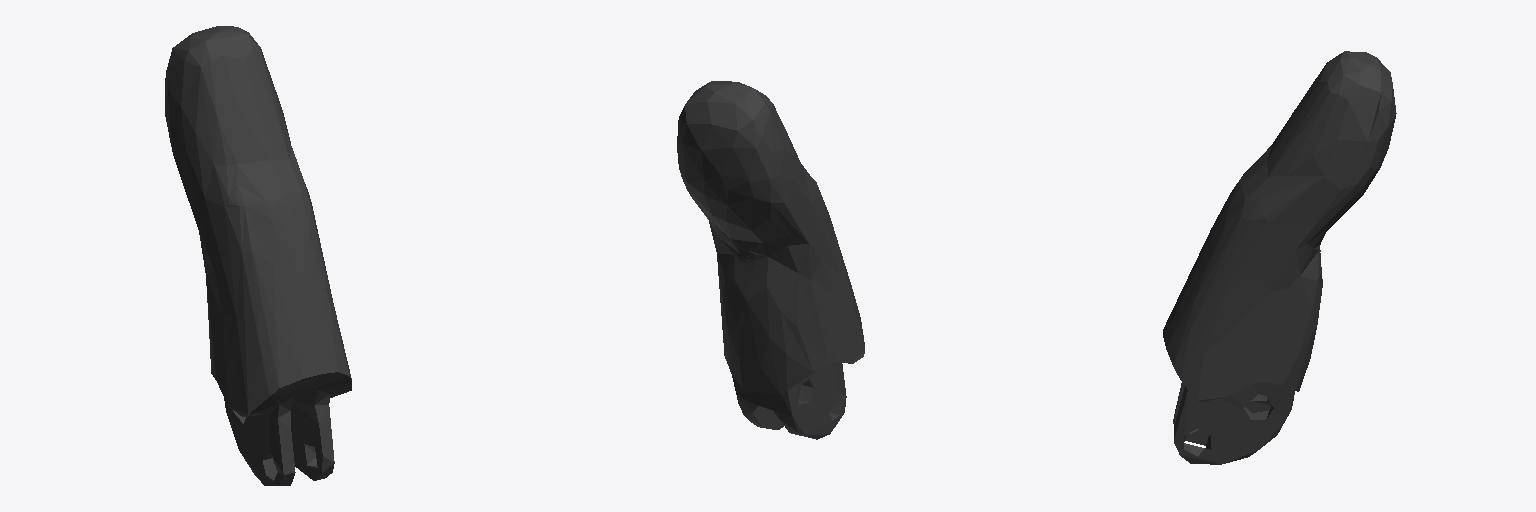
File: L_pinky_distal.obj
The picture shows the model from 3 angles: view 1: azimuth 30°, elevation 25°; view 2: azimuth 150°, elevation 25°; view 3: azimuth 270°, elevation 25°; orthographic projection.
Size of the model in its own units: 0.0127 by 0.0426 by 0.0227.